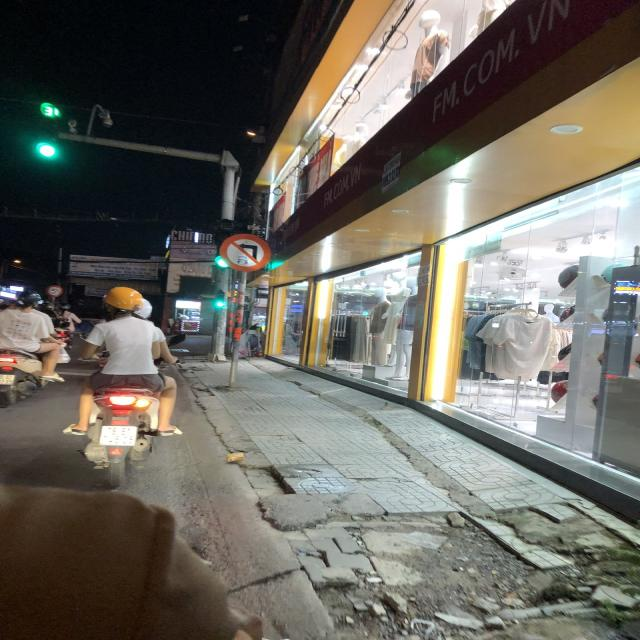Bien bao cam xe o to re trai: (214, 229, 277, 274)
